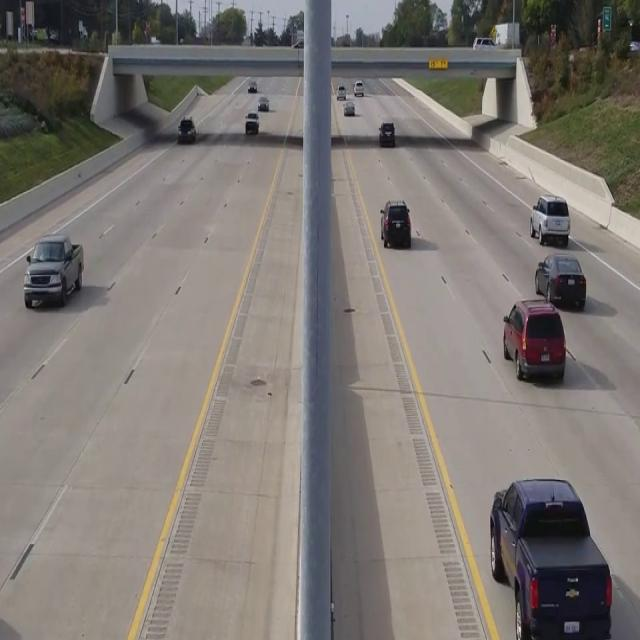car: (489, 476, 613, 640), (503, 296, 566, 382), (23, 235, 83, 309), (535, 253, 586, 310), (529, 194, 570, 247), (379, 199, 411, 248), (178, 118, 195, 144), (379, 121, 395, 146), (244, 110, 258, 134)
